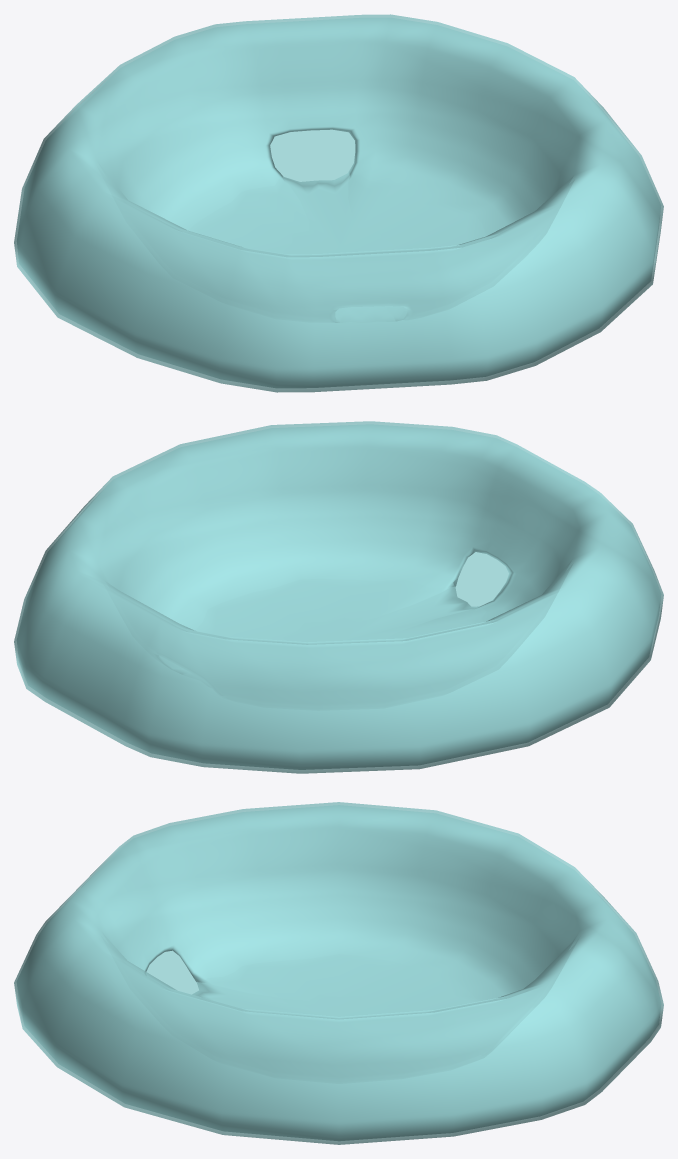
The model's file is 3D_PR_wall.fbx.
3 views of the same model, one above another, from view 1: azimuth 30°, elevation 25°; view 2: azimuth 150°, elevation 25°; view 3: azimuth 270°, elevation 25° (orthographic). The views are drawn at different scales.
Parts seen in each view (by area): view 1: Cylinder.002; view 2: Cylinder.002; view 3: Cylinder.002.
Part boxes in pixels (left/top/right/bottom): Cylinder.002: left=14, top=14, right=663, bottom=392; Cylinder.002: left=14, top=421, right=663, bottom=773; Cylinder.002: left=14, top=802, right=663, bottom=1144.
Bounding box in the file's own units: 2517 × 505 × 2666.
